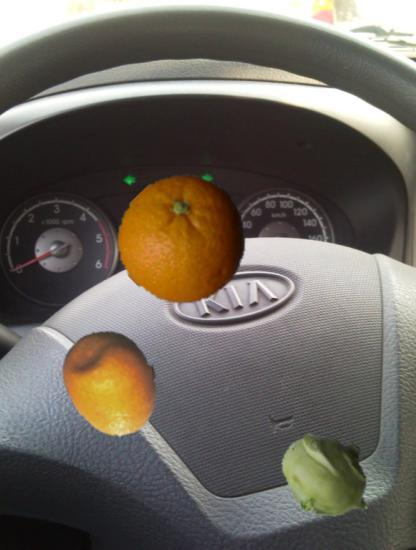Kohlrabi: (278, 426, 381, 529)
Kumquats: (56, 328, 167, 439)
Orange: (119, 176, 249, 306)
